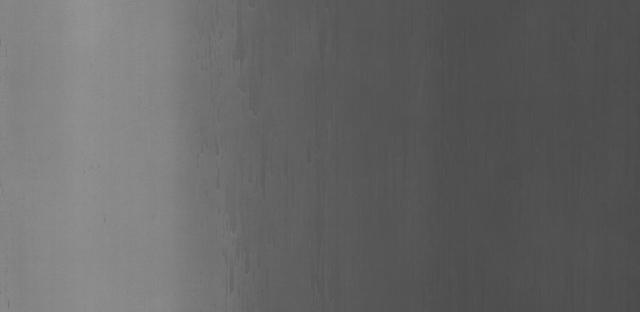silk_spot: (206, 59, 307, 293)
